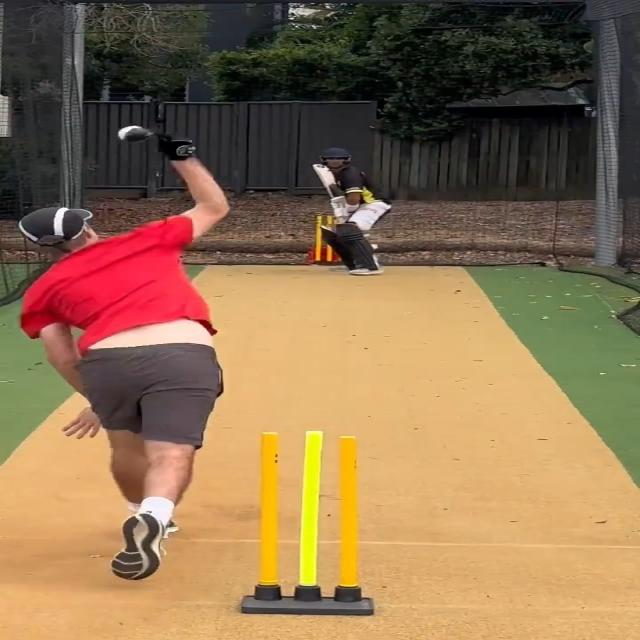stump: (236, 428, 378, 617)
